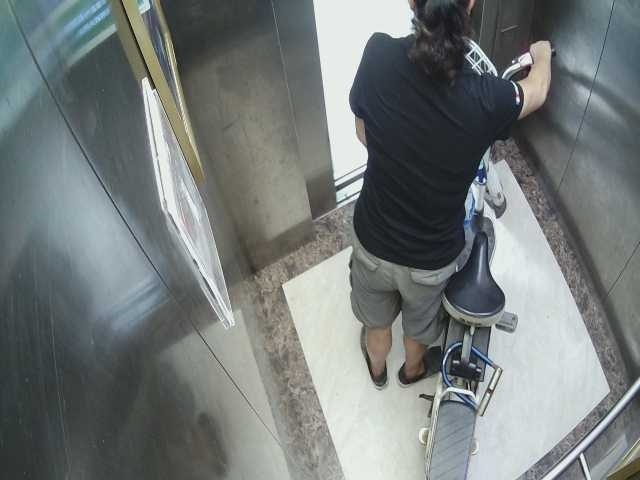emotor: (418, 41, 545, 480), (343, 1, 485, 391)
